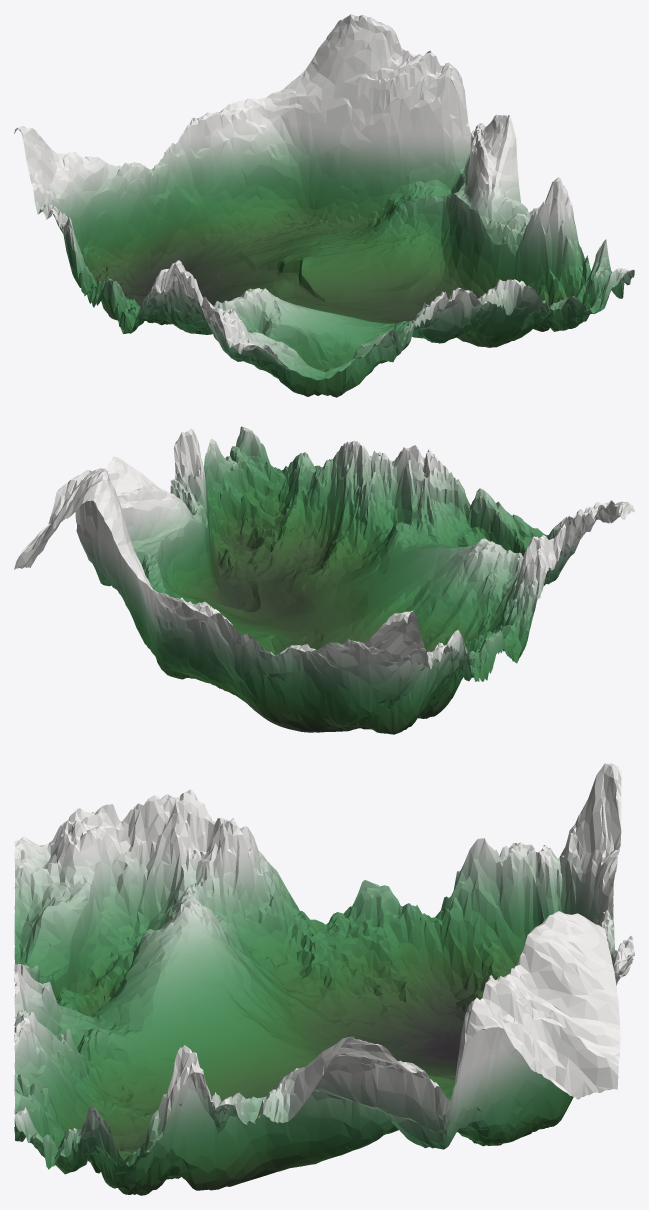
Rendered from woodland_terrain_2.glb.
3 views of the same model, one above another, from view 1: azimuth 30°, elevation 25°; view 2: azimuth 150°, elevation 25°; view 3: azimuth 270°, elevation 25° (orthographic). The views are drawn at different scales.
Parts seen in each view (by area): view 1: Terrain plane; view 2: Terrain plane; view 3: Terrain plane.
Part boxes in pixels (x1,y1,x2,y2): Terrain plane: (14, 14, 634, 397); Terrain plane: (14, 426, 634, 734); Terrain plane: (14, 763, 634, 1195).
Size of the model in its own units: 60.34 by 31.13 by 61.45.
1 material, 1 textured.
